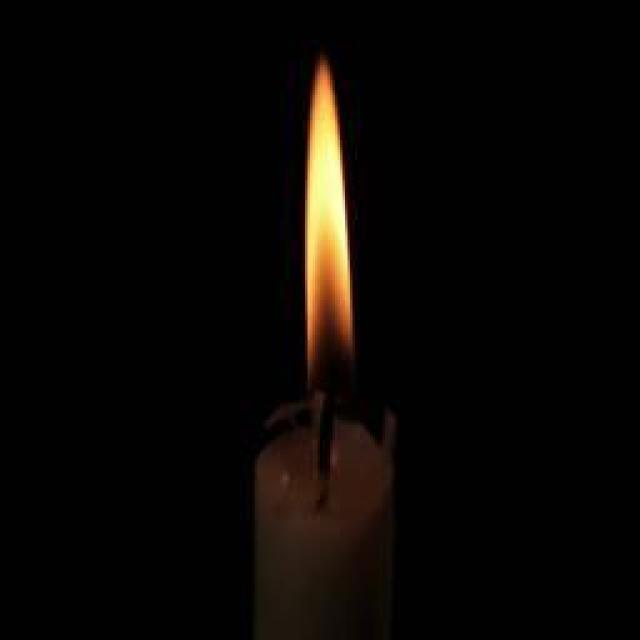Fire: (302, 61, 356, 366)
